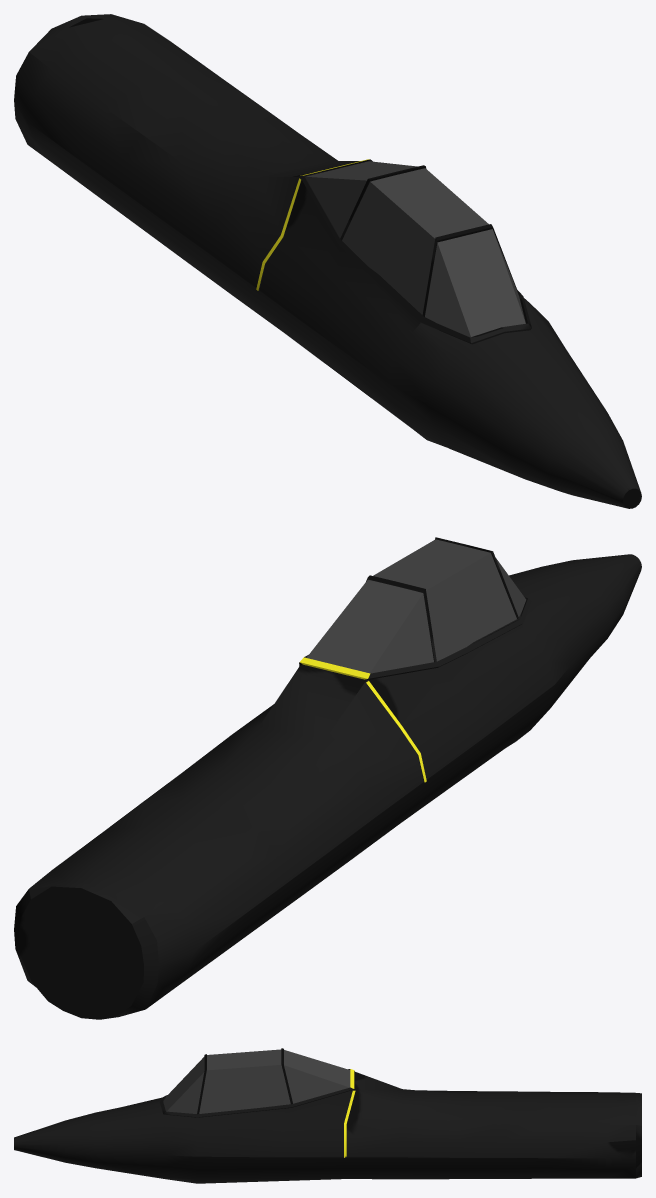
The model's file is 2_Body.fbx.
3 views of the same model, one above another, from view 1: azimuth 30°, elevation 25°; view 2: azimuth 150°, elevation 25°; view 3: azimuth 270°, elevation 25° (orthographic). The views are drawn at different scales.
Visible parts, largest first — view 1: 2_Body; view 2: 2_Body; view 3: 2_Body.
Boxes of the visible parts, x1=… form: 2_Body: x1=14, y1=14, x2=641, y2=508; 2_Body: x1=14, y1=537, x2=641, y2=1019; 2_Body: x1=14, y1=1048, x2=641, y2=1183.
Bounding box in the file's own units: 0.4728 × 0.5572 × 2.68.
Materials: 1 (1 with a texture image).
